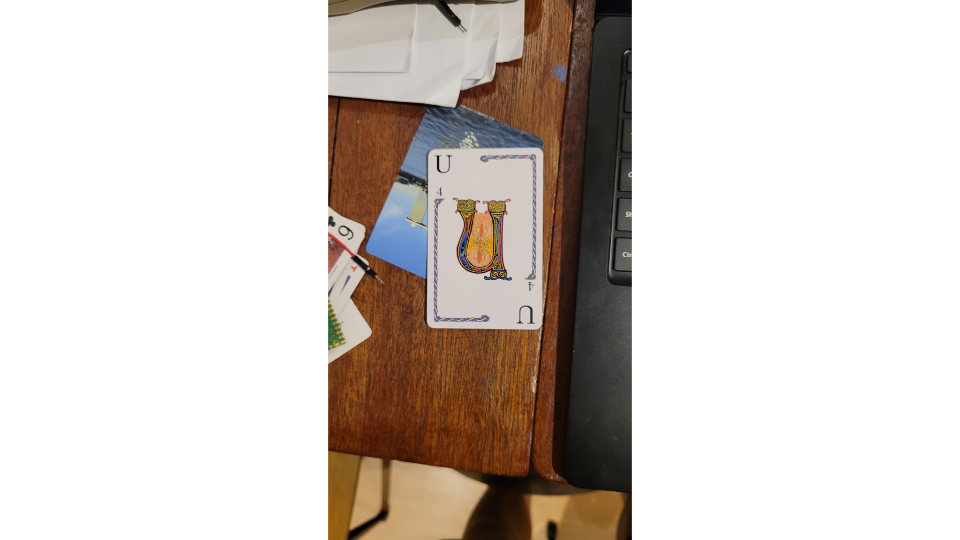U: (421, 144, 549, 335)
